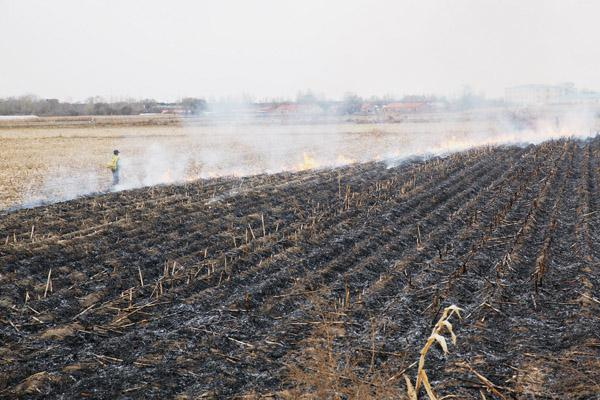fire: (170, 149, 421, 184)
